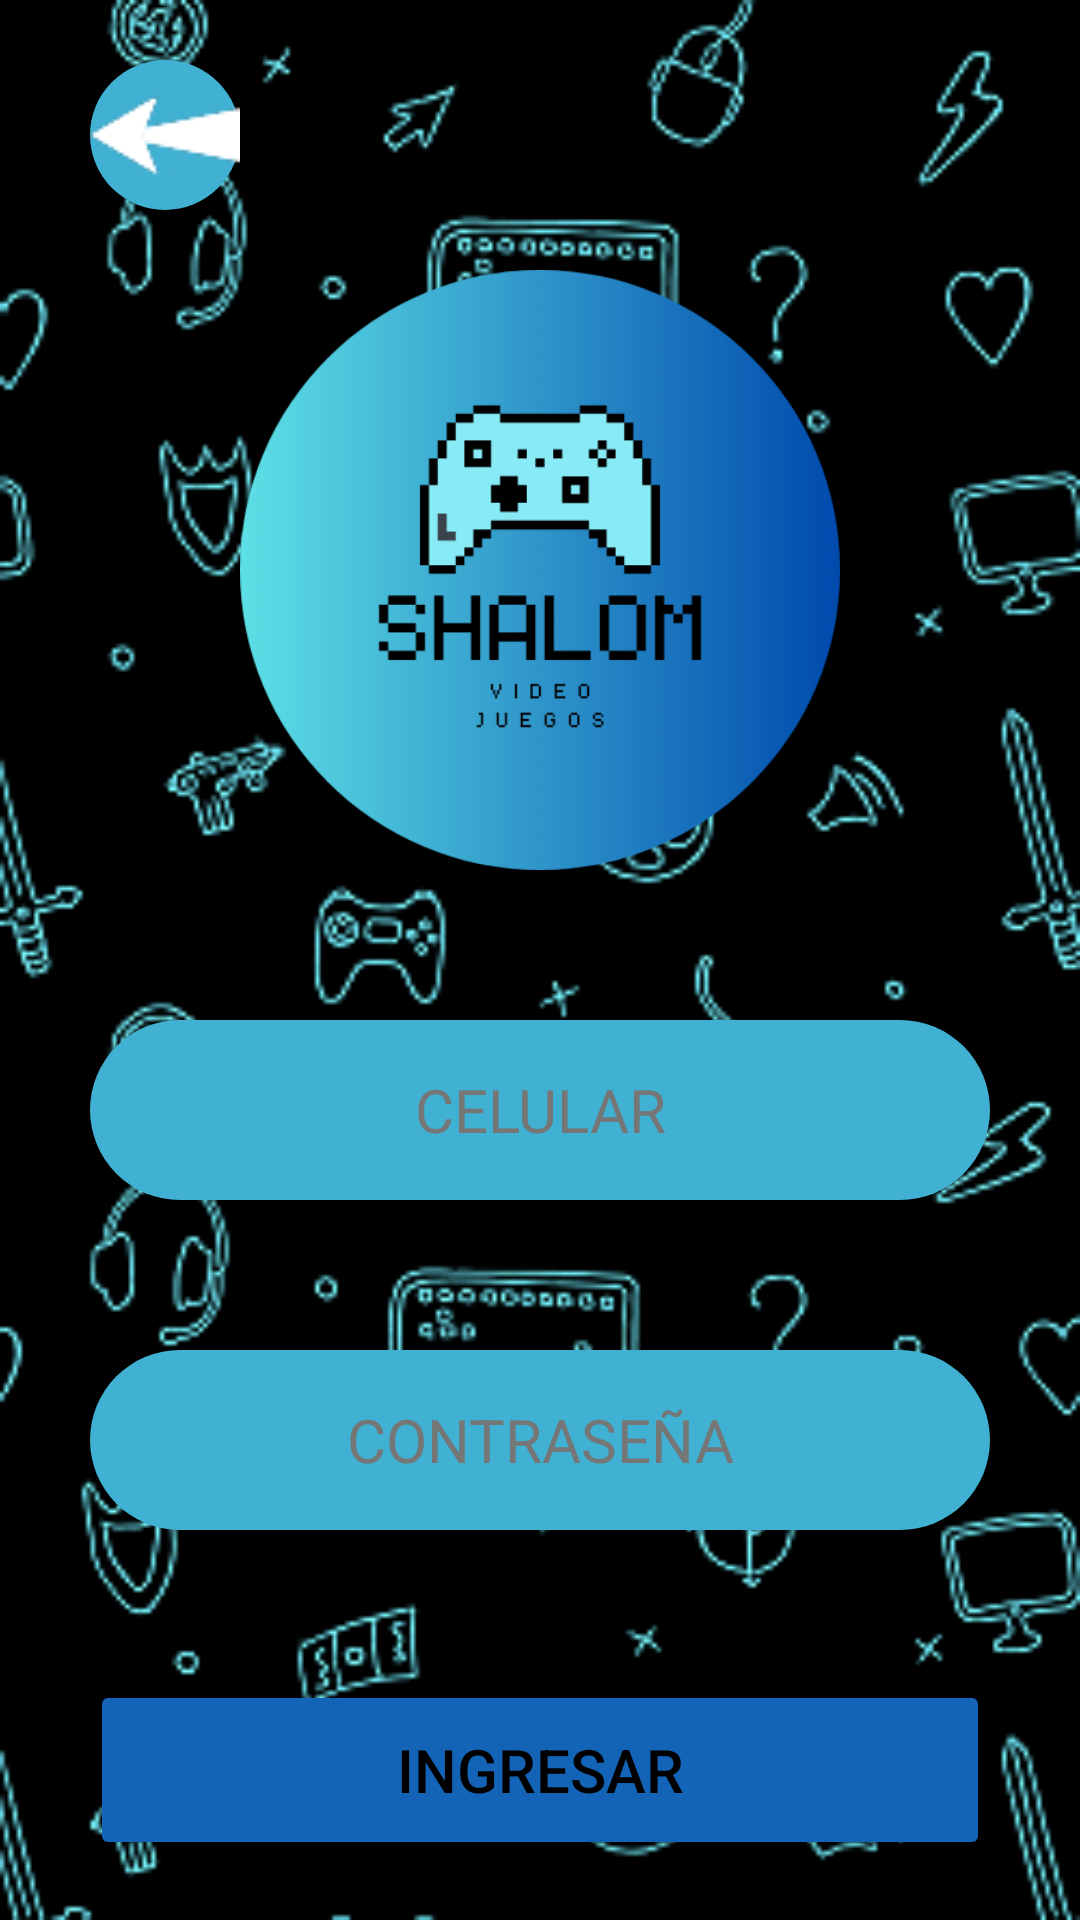

Where icons sit on this 1080*1920 app screen, as rect(x1, y1, x2, y2):
flechaatras: rect(90, 60, 240, 210)
